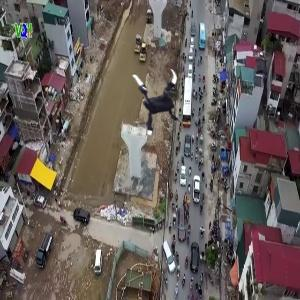drone: (118, 65, 198, 145)
